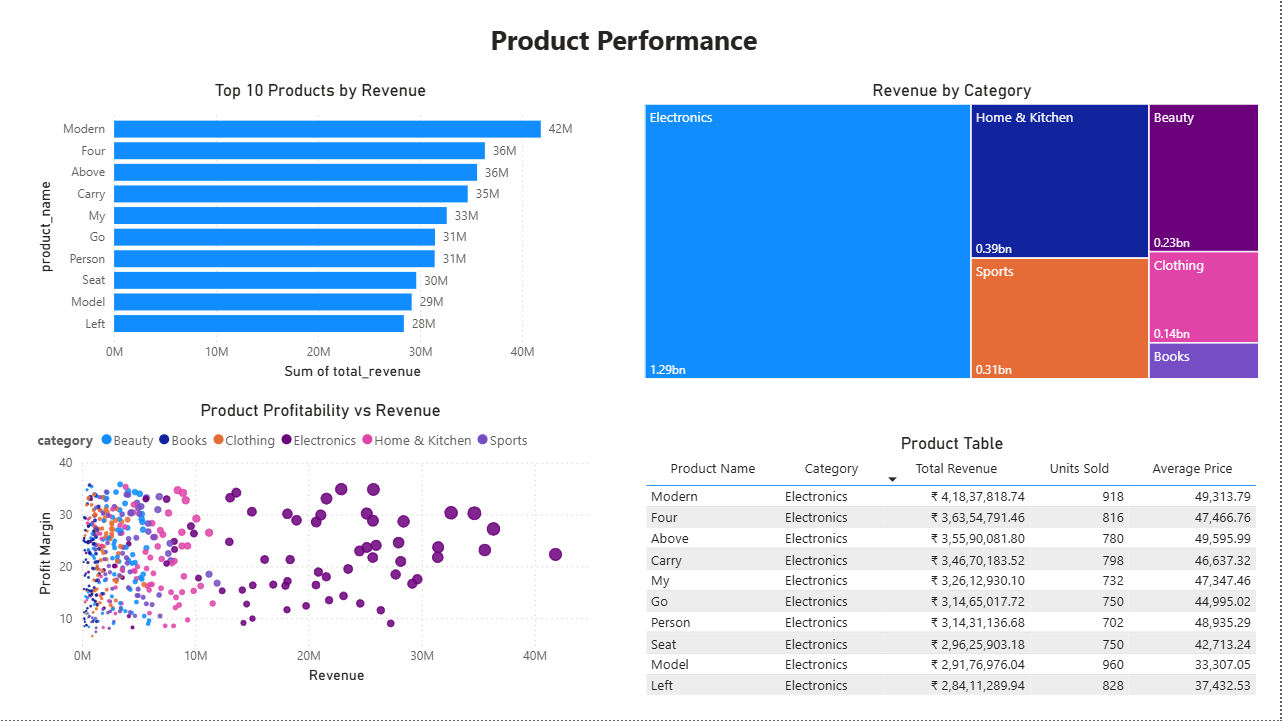

The dashboard page shown, as its layout file describes it:
{"tool":"powerbi","page":{"name":"Product Performance","canvas":[1280,720],"ordinal":1},"visuals":[{"type":"textbox","box":[464,16,320,48],"z":0},{"type":"clusteredBarChart","title":"Top 10 Products by Revenue","fields":{"Category":["query1.product_name"],"Y":["Sum(query1.total_revenue)"]},"box":[32,80,576,304],"z":1000},{"type":"treemap","title":"Revenue by Category","fields":{"Group":["query4.category"],"Values":["Sum(query4.total_revenue)"]},"box":[640,80,624,304],"z":2000},{"type":"scatterChart","title":"Product Profitability vs Revenue","fields":{"Y":["Sum(query8.profit_margin)"],"Size":["Sum(query8.total_profit)"],"Category":["query8.product_name"],"X":["Sum(query8.revenue)"],"Series":["query8.category"]},"box":[32,400,576,288],"z":3000},{"type":"tableEx","title":"Product Table","fields":{"Values":["query1.product_name","query1.category","Sum(query1.total_revenue)","Sum(query1.units_sold)","Sum(query1.avg_price)"]},"box":[640,432,624,272],"z":4000}]}

Visuals, with their boxes in screenshot pixels (x1, y1, x2, y2), scaled from the page's 1280x720 canvas onto the 1283x721 screenshot:
textbox: 465, 16, 786, 64
"Top 10 Products by Revenue" clusteredBarChart: 32, 80, 609, 385
"Revenue by Category" treemap: 642, 80, 1267, 385
"Product Profitability vs Revenue" scatterChart: 32, 401, 609, 689
"Product Table" tableEx: 642, 433, 1267, 705
